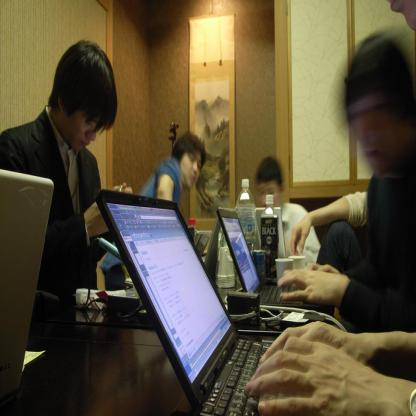board: (100, 193, 277, 416), (0, 165, 54, 399), (218, 208, 322, 311), (260, 193, 278, 280)
